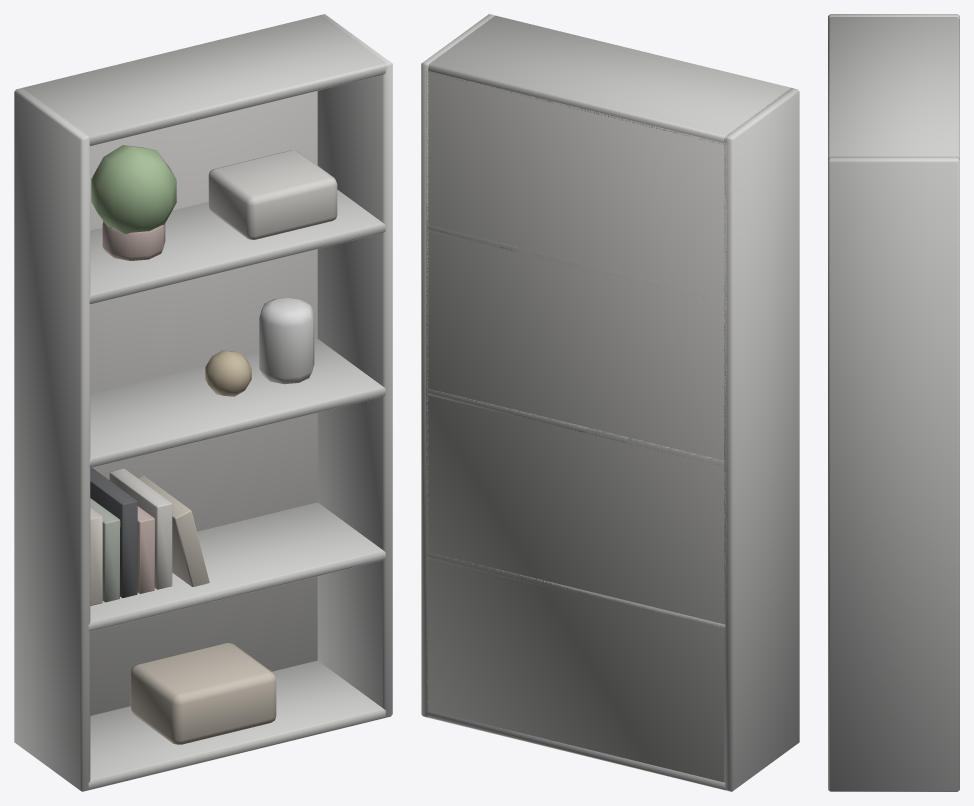
File: white_shelf.glb
3 renders of one model, left to right at view 1: azimuth 30°, elevation 25°; view 2: azimuth 150°, elevation 25°; view 3: azimuth 270°, elevation 25°, orthographic. The views are drawn at different scales.
Parts seen in each view (by area): view 1: white_shelf; view 2: white_shelf; view 3: white_shelf.
Part boxes in pixels (box(x1,y1,x2,y2)): white_shelf: box(14, 14, 392, 791); white_shelf: box(421, 14, 799, 791); white_shelf: box(828, 14, 959, 791).
Bounding box in the file's own units: 0.9 × 1.8 × 0.34.
